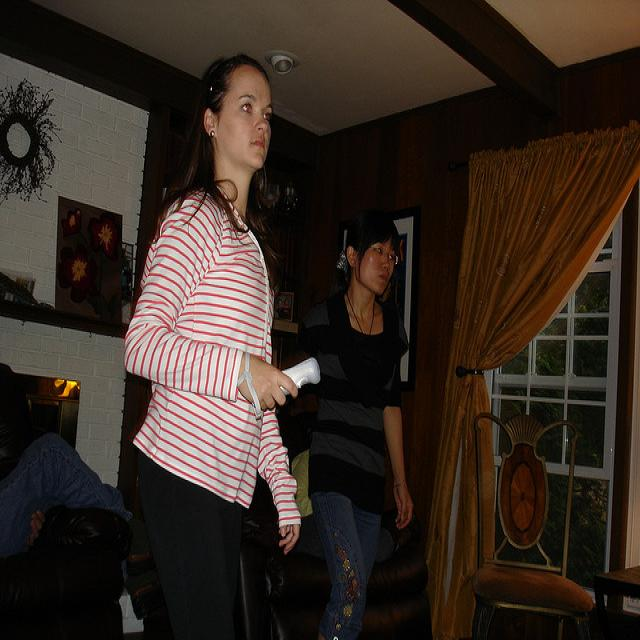People: (160, 52, 289, 640), (280, 199, 448, 603), (0, 381, 131, 555)
chair: (450, 389, 581, 627)
